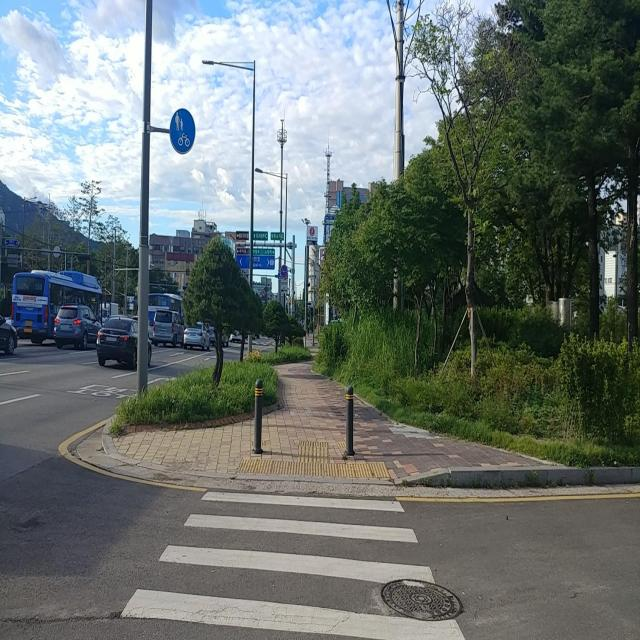횡단보도: (117, 486, 469, 640)
